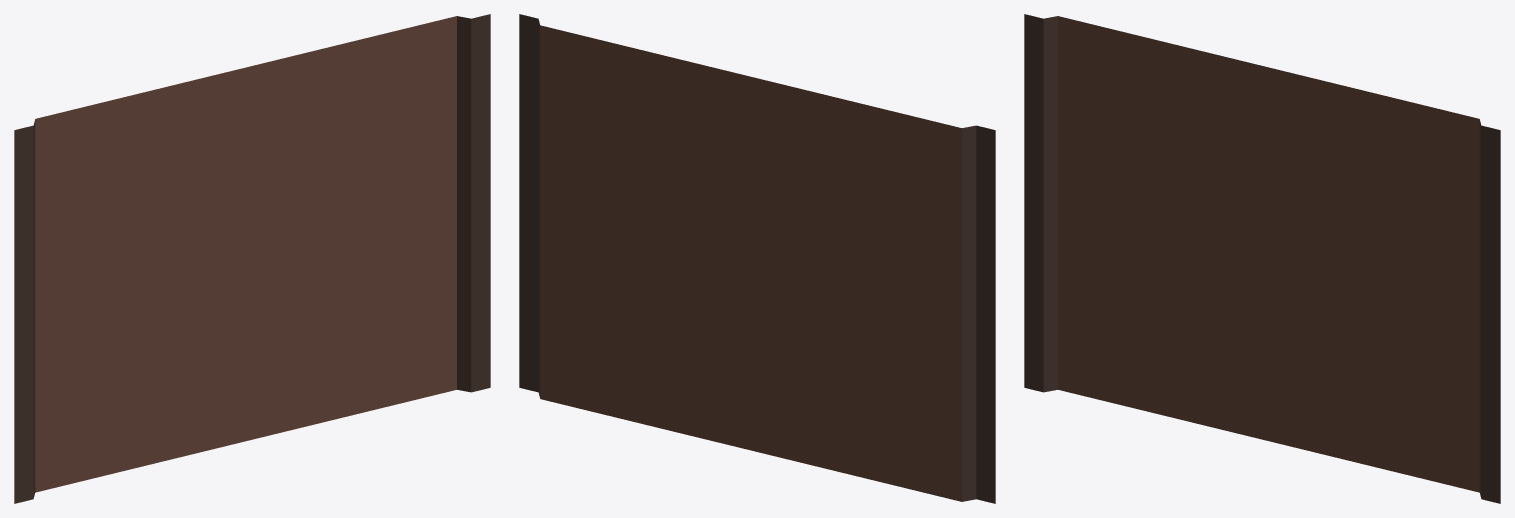
File: LPHorror_4MWallB.fbx
3 renders of one model, left to right at view 1: azimuth 30°, elevation 25°; view 2: azimuth 150°, elevation 25°; view 3: azimuth 330°, elevation 25°, orthographic.
Parts seen in each view (by area): view 1: 4MWallB; view 2: 4MWallB; view 3: 4MWallB.
Boxes of the visible parts, <box> form: 4MWallB: <box>14,14,490,503</box>; 4MWallB: <box>519,14,995,503</box>; 4MWallB: <box>1024,14,1500,503</box>.
Bounding box in the file's own units: 400 × 300 × 9.25.
